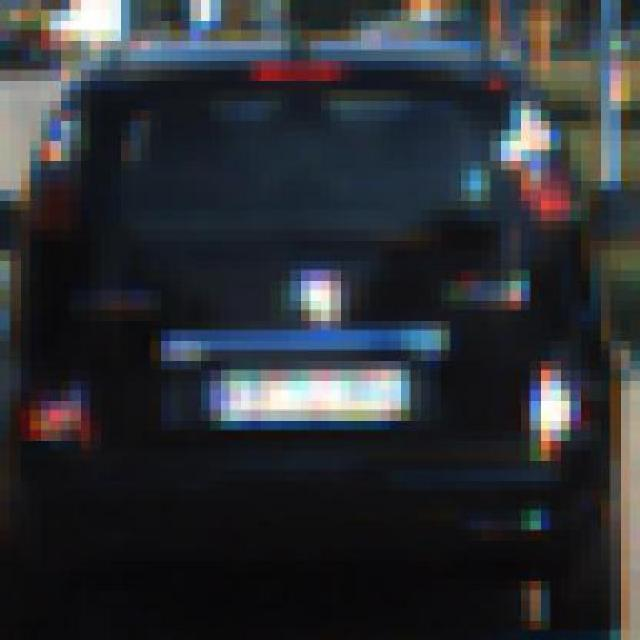vehicle: (0, 31, 616, 634)
